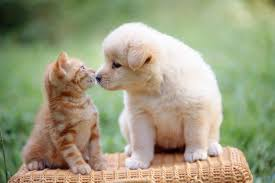cat: (23, 52, 104, 175)
dog: (97, 22, 225, 168)
